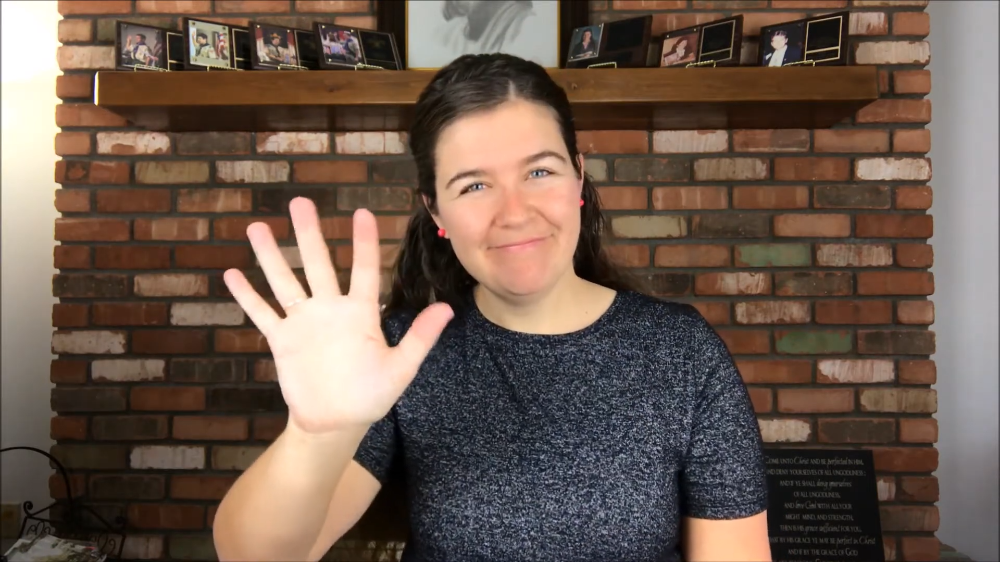hello: (221, 196, 454, 431)
